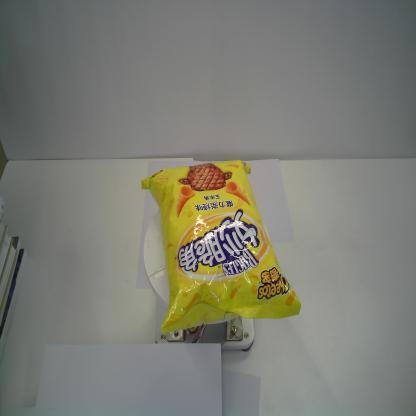Puffed Food: (140, 158, 303, 336)
